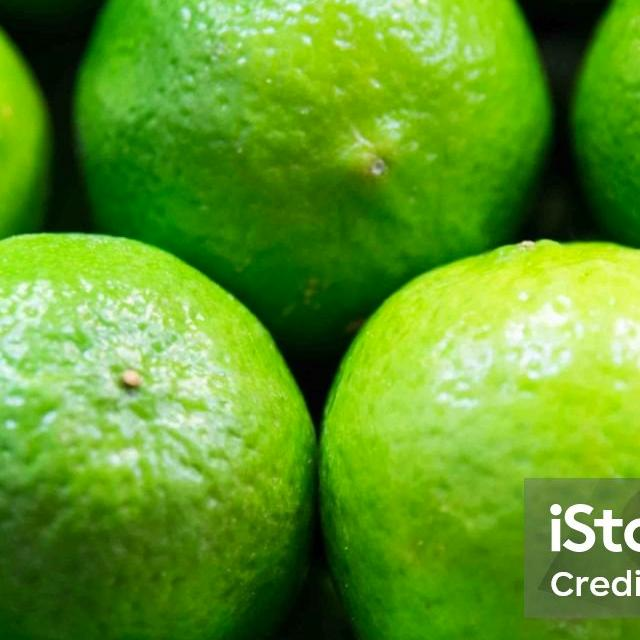lime: (0, 232, 320, 640)
